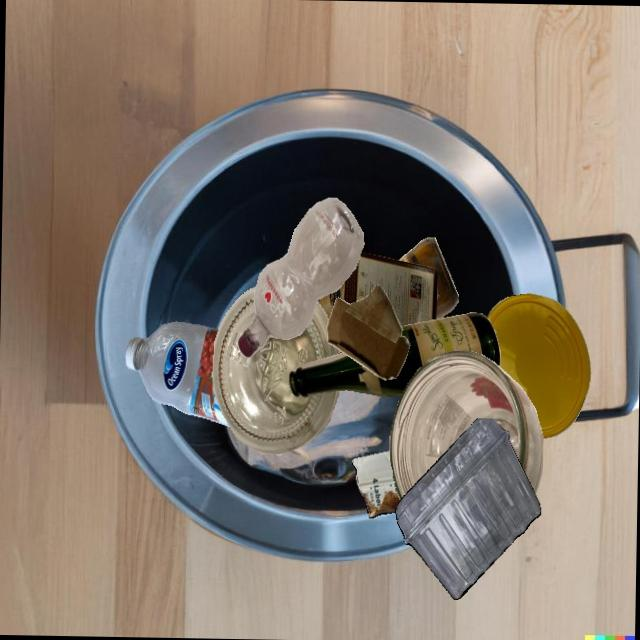cardboard: (316, 251, 438, 326), (327, 284, 410, 379), (352, 450, 400, 518), (338, 350, 340, 352)
glass: (389, 350, 543, 500), (212, 286, 339, 454), (288, 312, 500, 397), (398, 237, 458, 319)
plastic: (395, 418, 541, 599), (237, 197, 363, 357), (486, 293, 590, 438), (125, 321, 230, 426), (209, 419, 212, 420)
